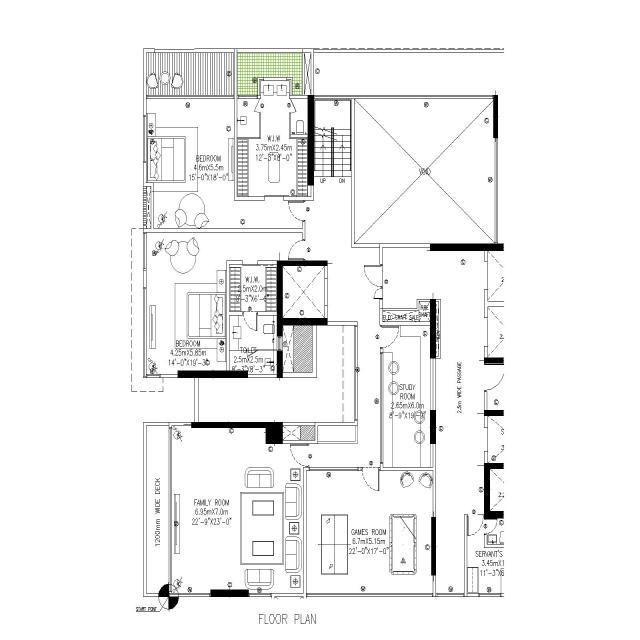Column: (275, 259, 329, 337), (190, 420, 284, 446), (483, 462, 506, 520), (429, 242, 505, 252), (307, 93, 315, 187), (176, 369, 249, 379), (429, 298, 437, 360), (210, 588, 250, 600), (430, 516, 438, 576), (429, 409, 437, 445), (493, 92, 499, 138), (275, 350, 284, 380), (483, 408, 505, 418), (483, 356, 505, 366)
Door: (481, 362, 489, 394), (379, 262, 384, 300), (378, 323, 385, 349), (306, 442, 312, 468), (301, 198, 306, 223), (361, 466, 381, 472), (242, 310, 259, 316), (302, 237, 306, 261), (463, 514, 485, 518), (483, 517, 487, 536), (258, 97, 262, 113), (288, 98, 292, 114)
Sliding Door: (264, 195, 284, 202)
Staircase: (314, 99, 352, 201)
Window: (142, 286, 161, 379), (312, 93, 494, 101), (305, 591, 434, 599), (168, 426, 173, 598), (379, 351, 384, 465), (145, 94, 235, 100), (494, 136, 499, 244), (354, 324, 358, 422), (170, 591, 211, 599), (142, 112, 148, 164), (308, 466, 359, 472), (434, 591, 466, 599), (142, 231, 148, 271), (476, 591, 502, 599), (286, 76, 294, 96), (248, 592, 273, 598), (257, 76, 264, 96)
